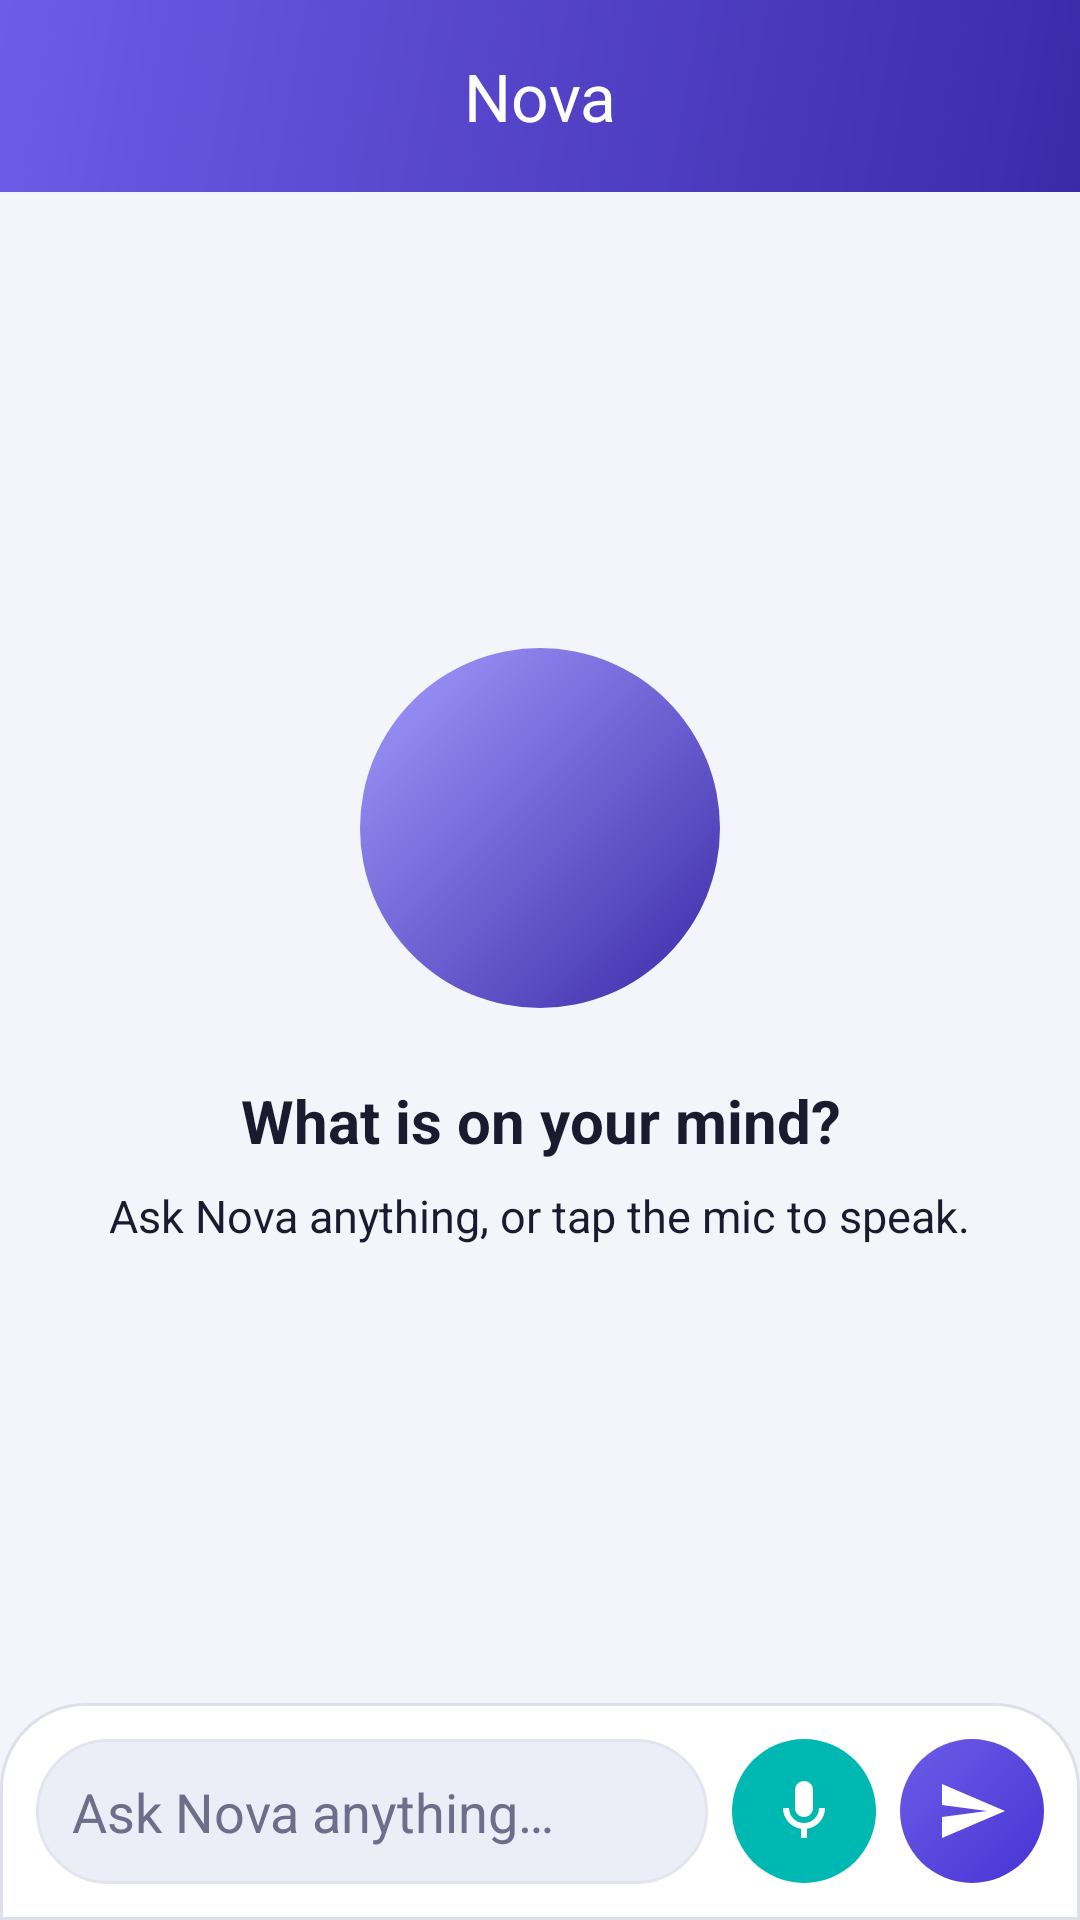

Icon bounding boxes for this 1080px×1920px phone screenshot, format {"left": x1, "top": y1, "right": x2, "bottom": y2}:
Send: {"left": 900, "top": 1739, "right": 1044, "bottom": 1883}
Voice input: {"left": 732, "top": 1739, "right": 876, "bottom": 1883}
